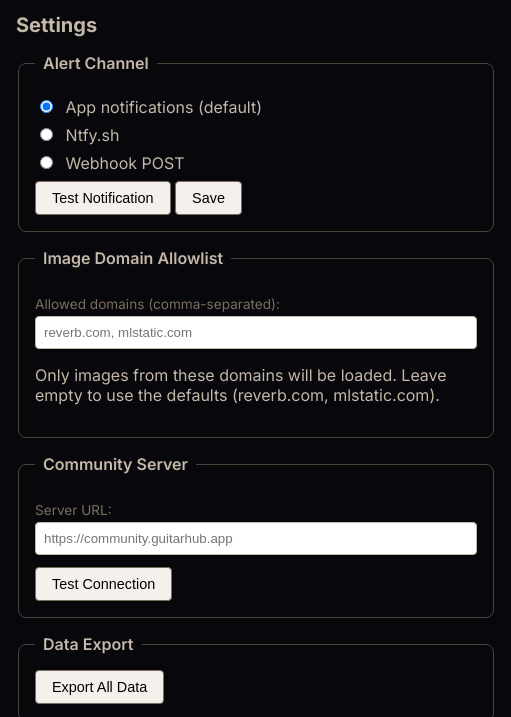
Test: Settings › save button shows "Saved" feedback after click
Click the button "Save".
click(208, 198)  # box top-left (175, 181), bottom-right (242, 215)
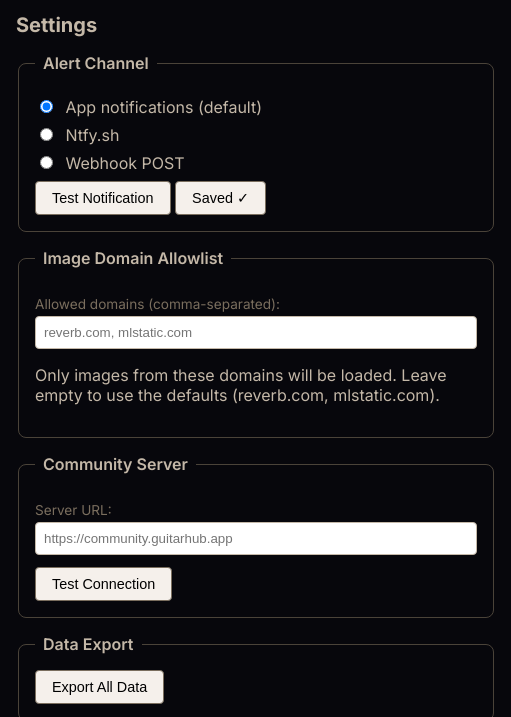
Result: the button "Saved ✓" is shown at top-left (175, 181), bottom-right (266, 215)
